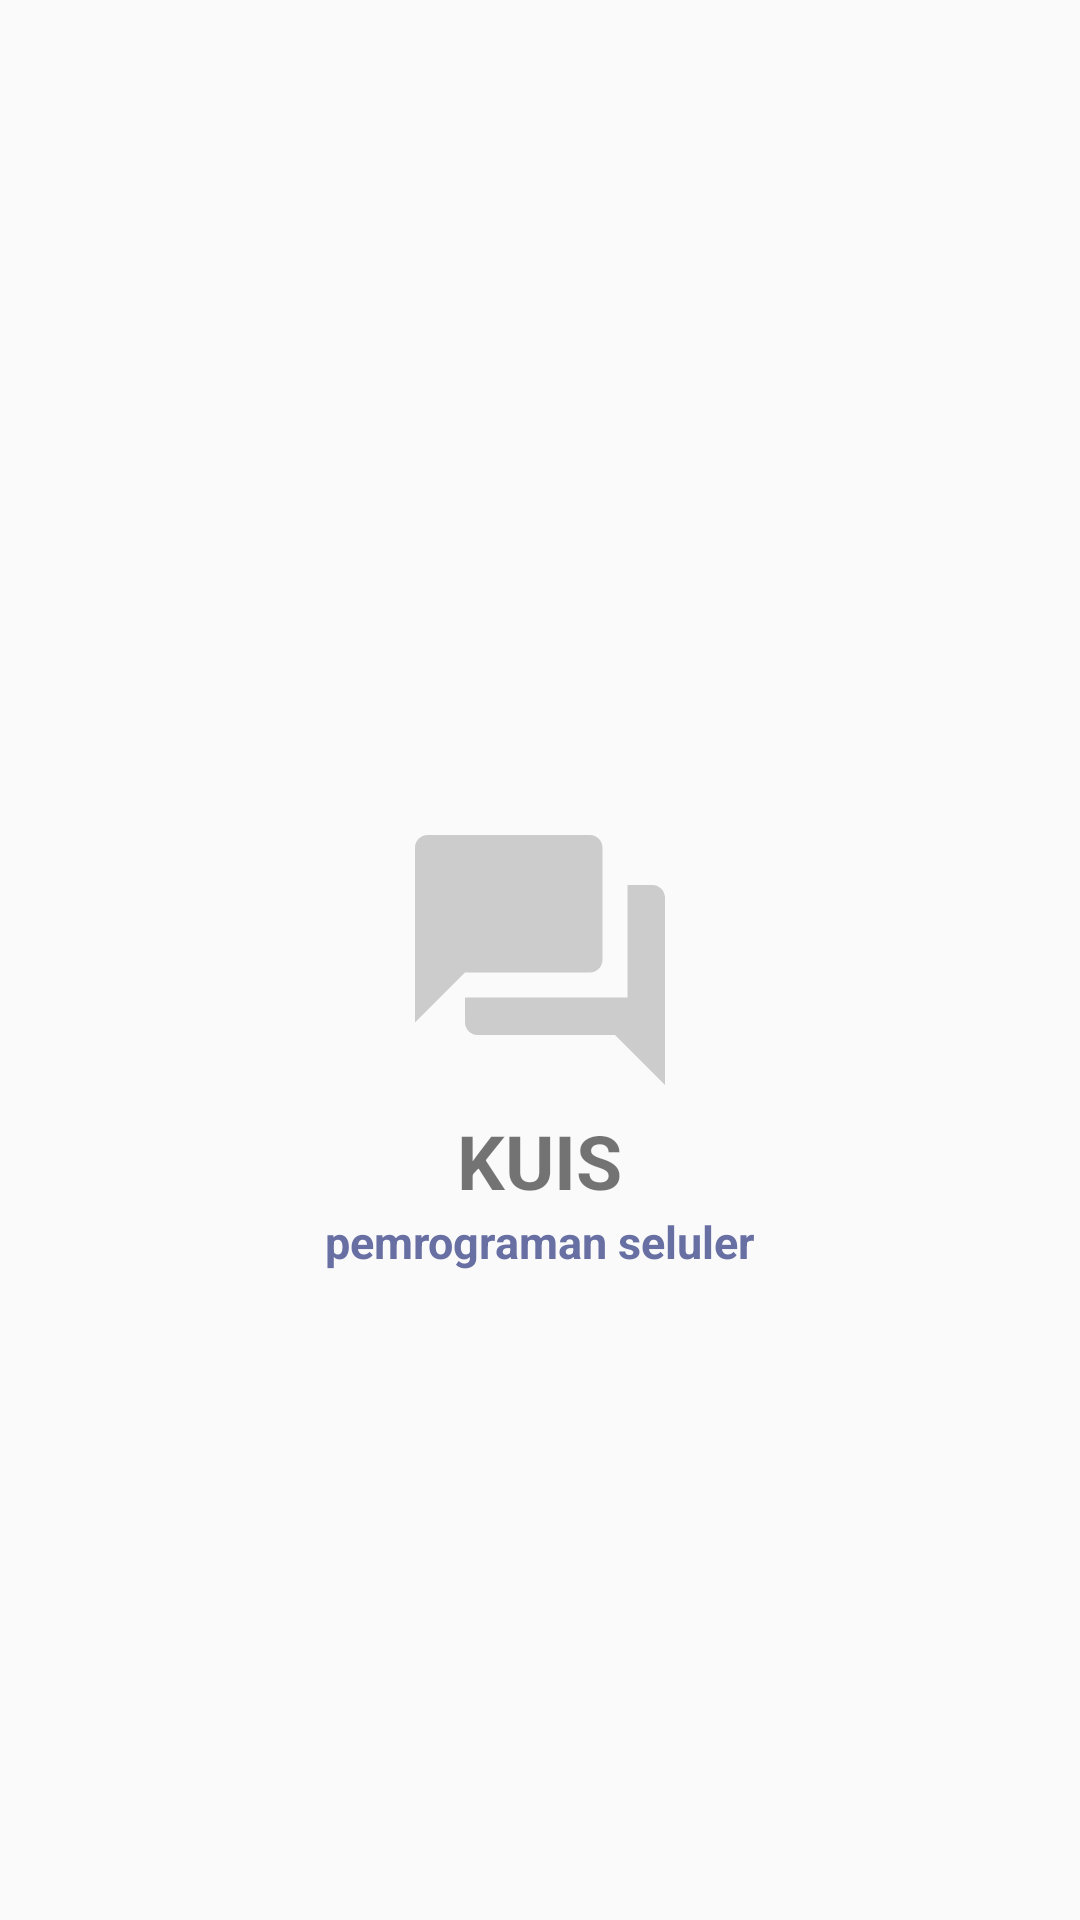

Named icons in this screenshot (1080px×1920px) and their bounding boxes, region(x1, y1, x2, y2):
question answer: region(415, 835, 665, 1084)
